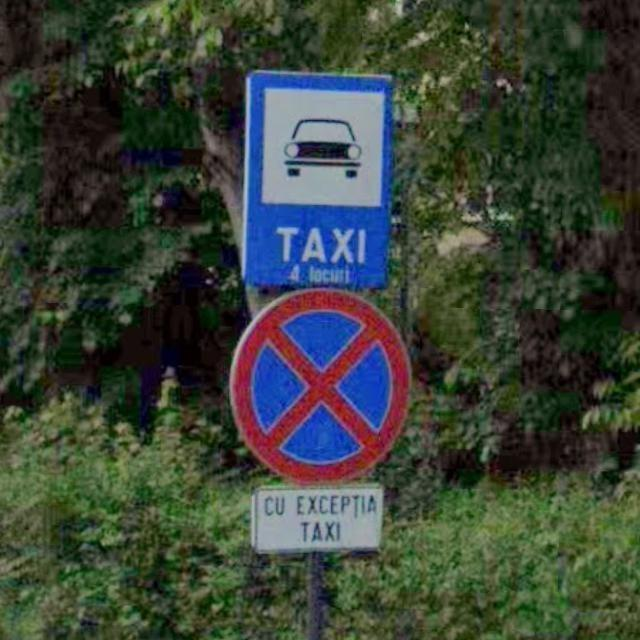forb_waiting: (229, 287, 406, 484)
